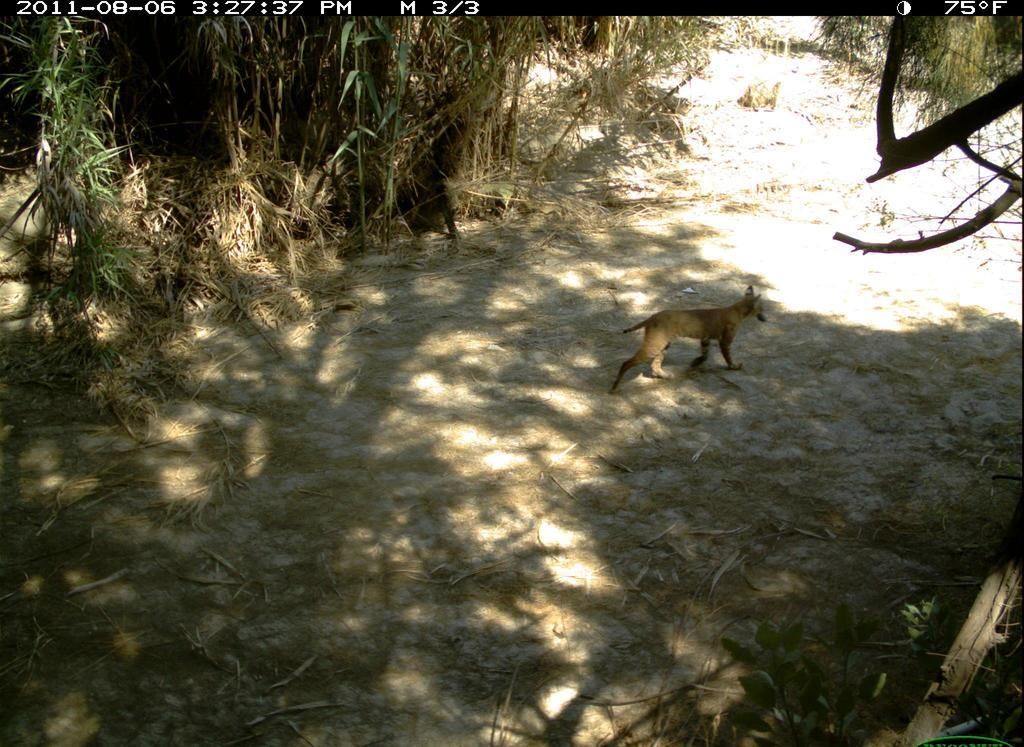bobcat: (605, 282, 771, 401)
rodent: (751, 306, 775, 329)
